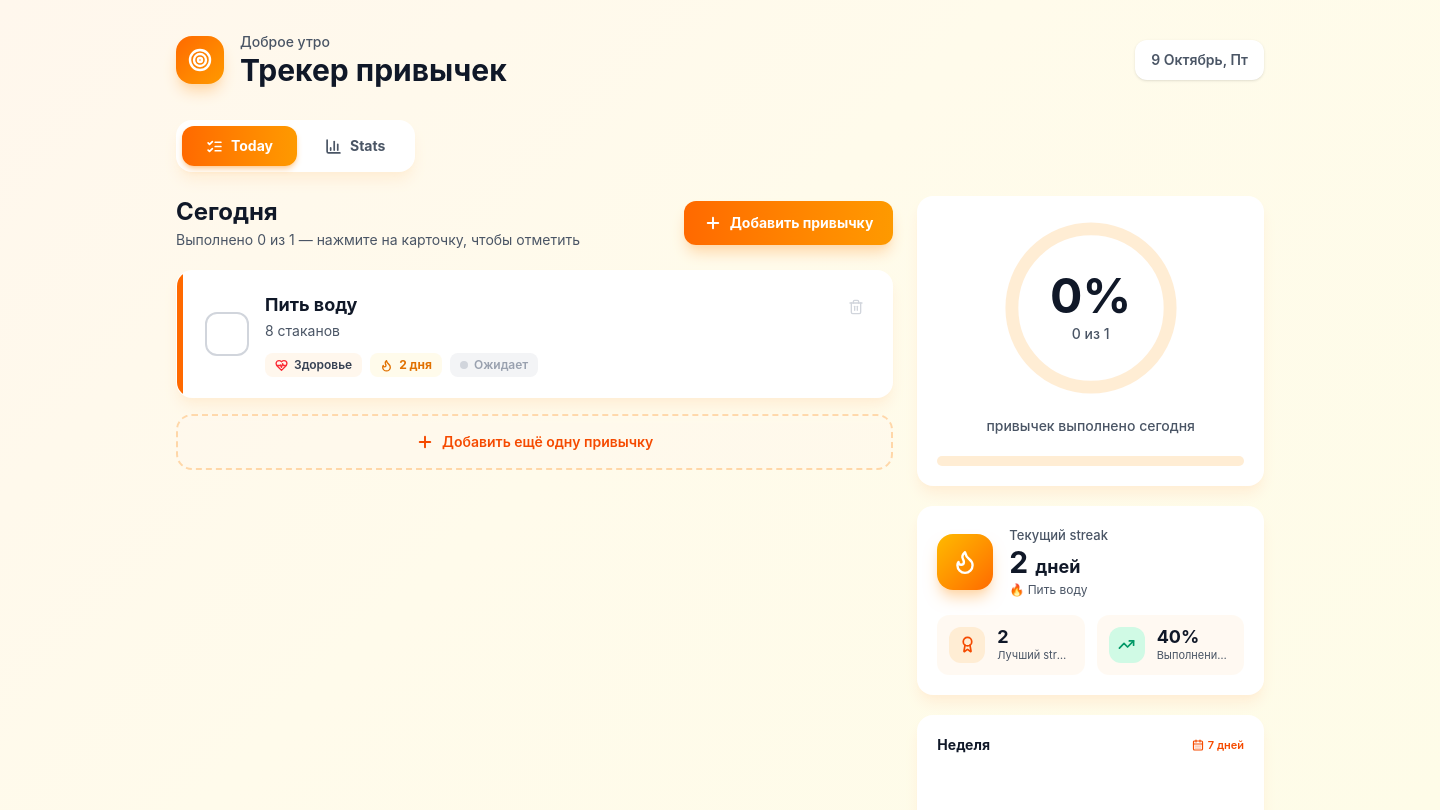
Today — отметка выполнения › пересчитывает streak после отметки
Check: the text "2 дня" is shown, box top-left (370, 353), bottom-right (442, 377)
Click the button "Пить воду" at {"x": 227, "y": 334}, box top-left (176, 270), bottom-right (893, 398)
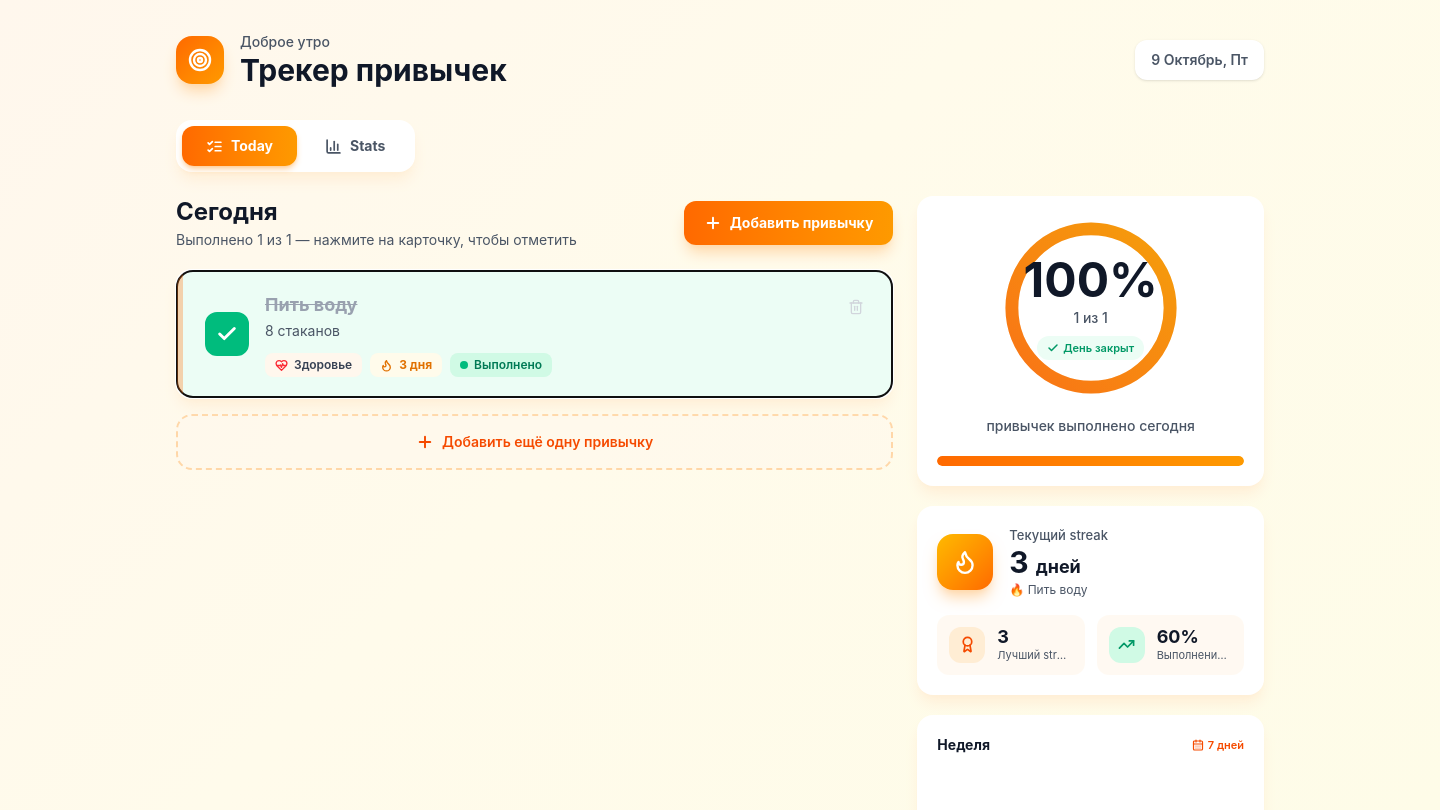
Check: the text "3 дня" is shown, box top-left (370, 353), bottom-right (442, 377)
